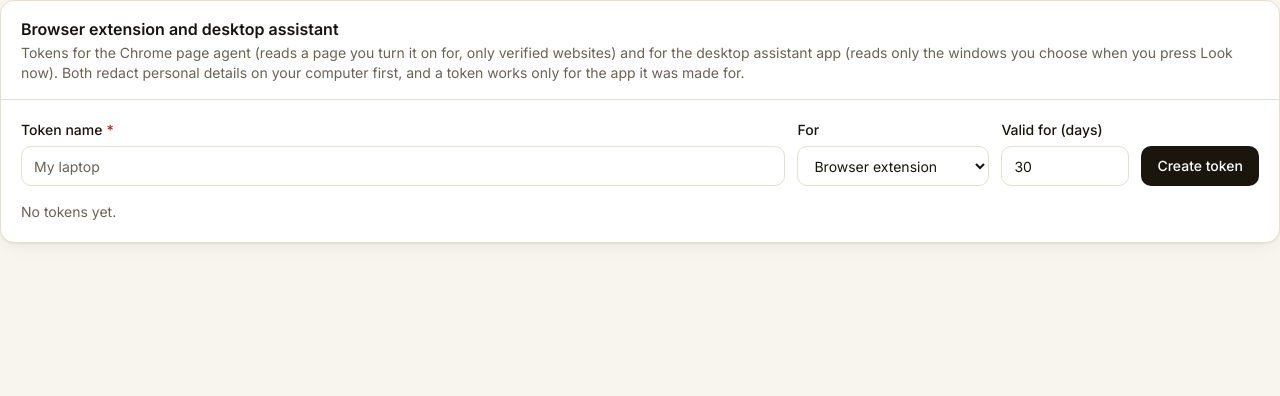
Test: ExtensionTokensCard › shows a new token once, with a clear warning
Type "Work PC" into the field labelled "Token name*".
click(403, 166); type("Work PC")  # box top-left (21, 146), bottom-right (785, 186)
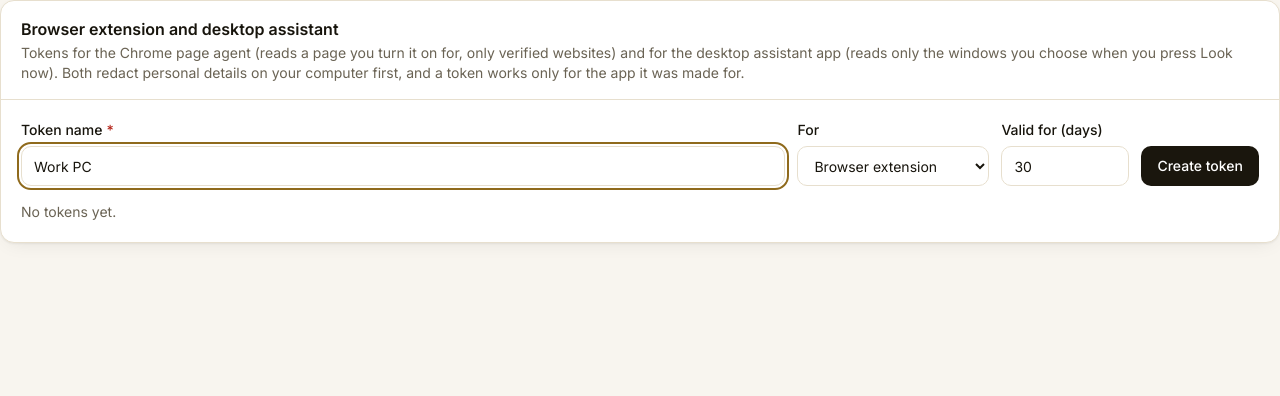
Click the button "Create token".
click(1200, 166)  # box top-left (1141, 146), bottom-right (1259, 186)
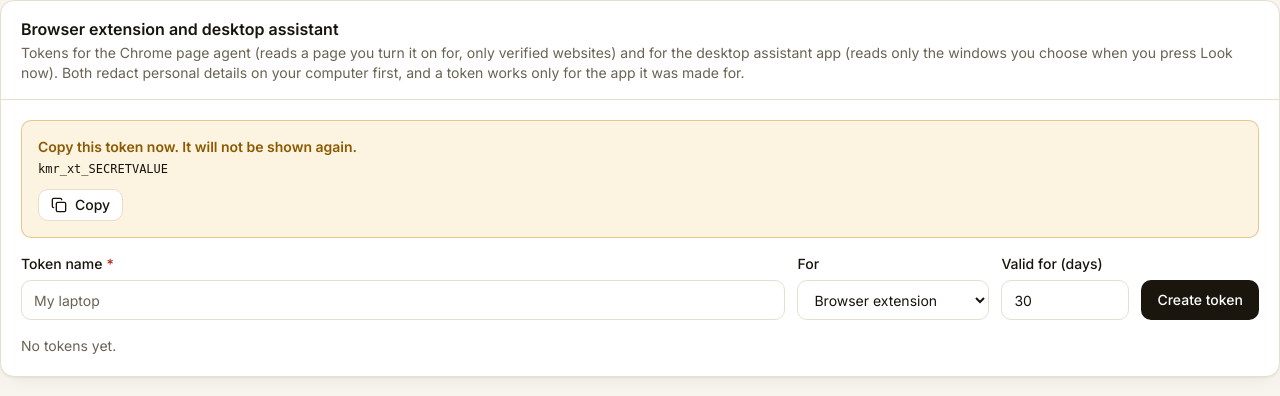
Result: the text "kmr_xt_SECRETVALUE" is shown at top-left (38, 162), bottom-right (168, 176)
Result: the text "Copy this token now. It will not be shown again." is shown at top-left (38, 138), bottom-right (357, 155)
